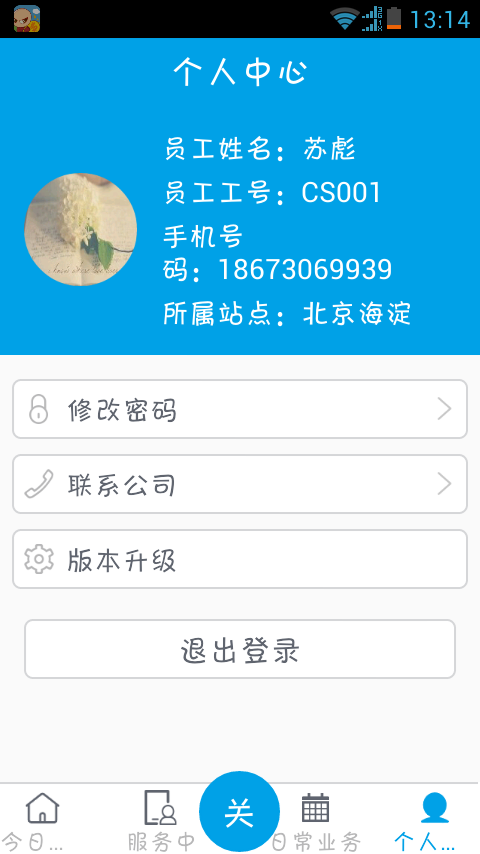button: (9, 449, 474, 523)
imgview: (15, 167, 142, 286)
